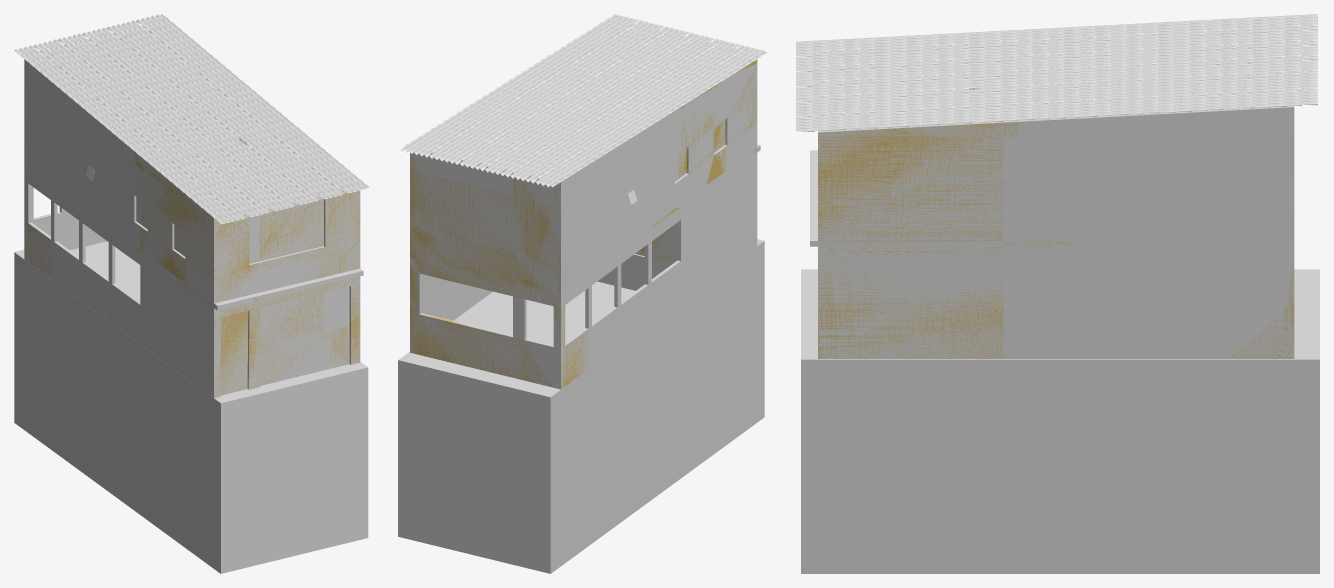
Rendered from CASA9.fbx.
The picture shows the model from 3 angles, left to right: view 1: azimuth 30°, elevation 25°; view 2: azimuth 150°, elevation 25°; view 3: azimuth 270°, elevation 25°; orthographic projection. The views are drawn at different scales.
Parts seen in each view (by area): view 1: CASA9_LOD0, CUBE_LOD0, UTM_CASA9; view 2: CASA9_LOD0, CUBE_LOD0, UTM_CASA9; view 3: CASA9_LOD0, CUBE_LOD0, UTM_CASA9.
Part boxes in pixels (x1,y1,x2,y2): CASA9_LOD0: [14, 14, 369, 398]; CUBE_LOD0: [14, 241, 368, 573]; UTM_CASA9: [24, 153, 360, 397]; CASA9_LOD0: [400, 14, 767, 389]; CUBE_LOD0: [398, 239, 764, 573]; UTM_CASA9: [410, 59, 757, 389]; CASA9_LOD0: [796, 14, 1317, 358]; CUBE_LOD0: [801, 269, 1319, 573]; UTM_CASA9: [818, 122, 1294, 358].
Size of what is drawn, in the model's own units: 522 by 1243 by 1255.
